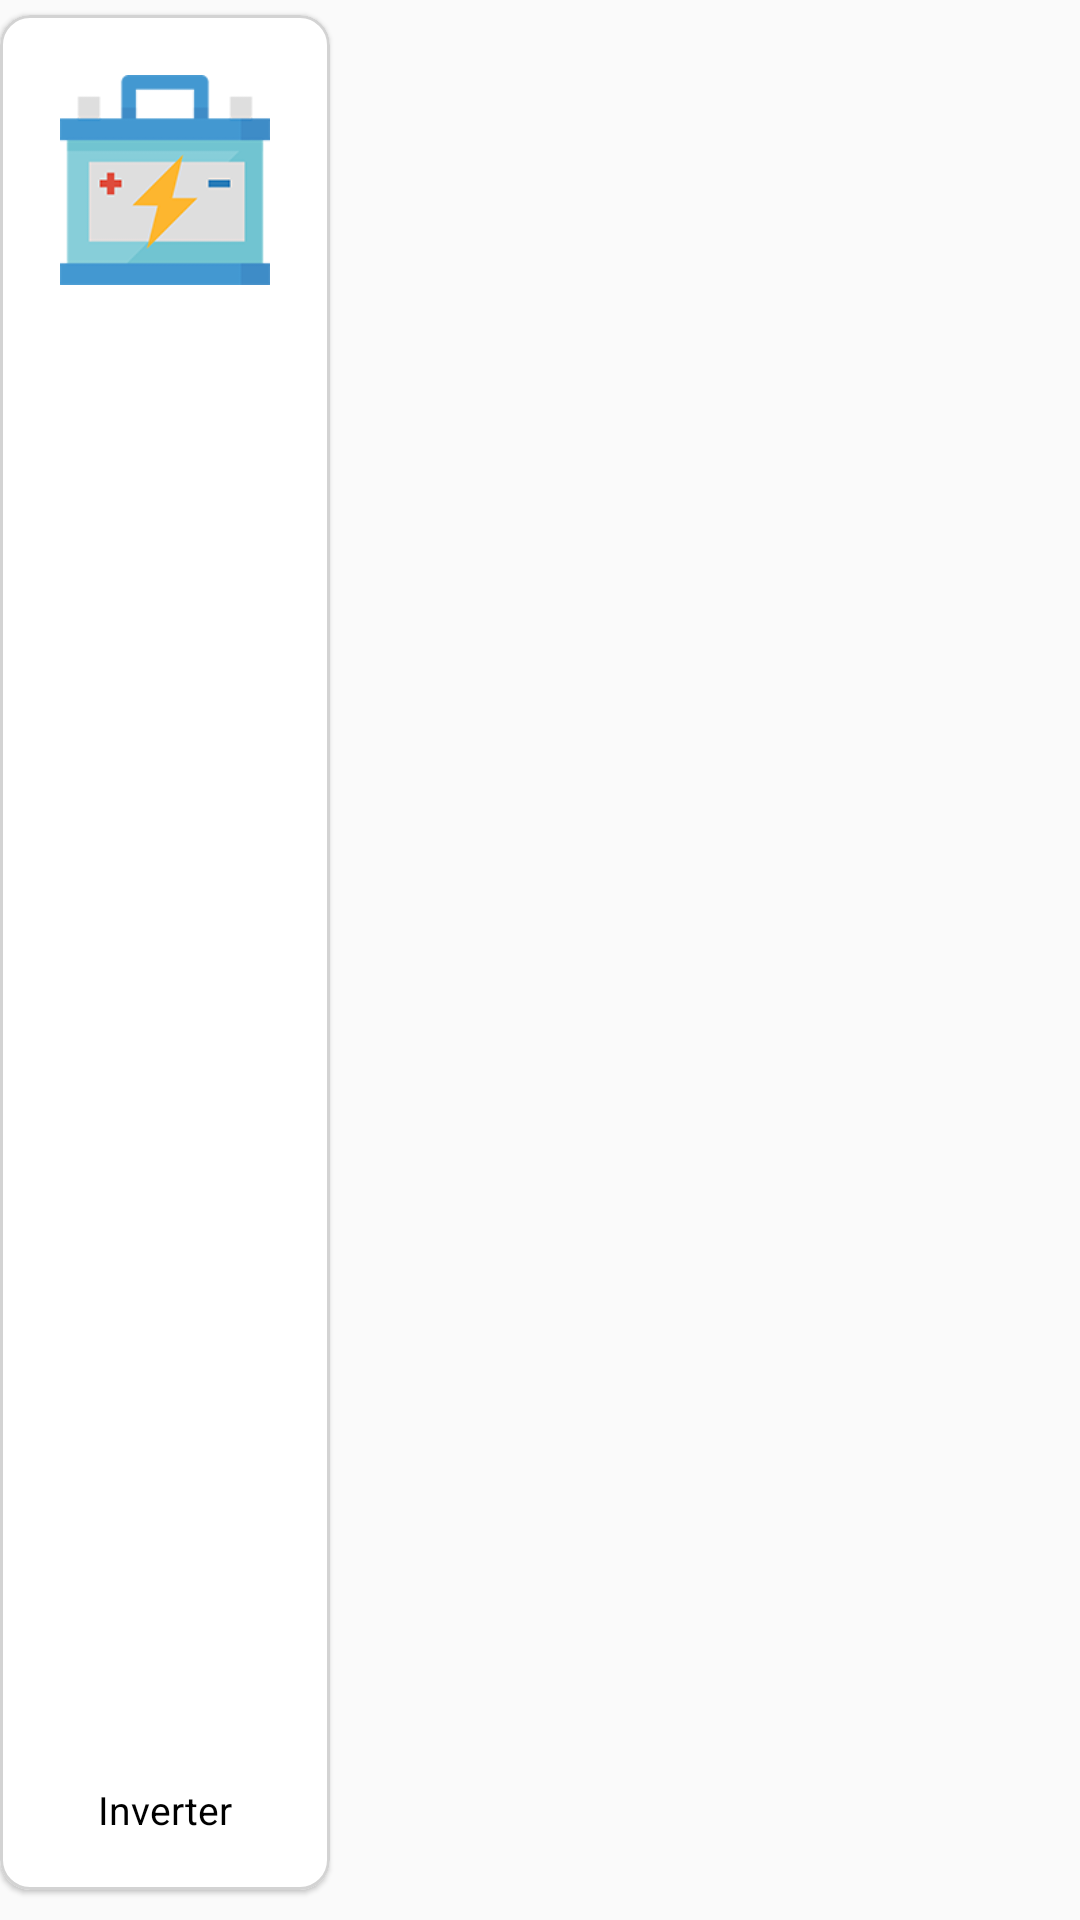

Named icons in this screenshot (1080*1920) and their centers, [x,y]:
battery: [165,180]
